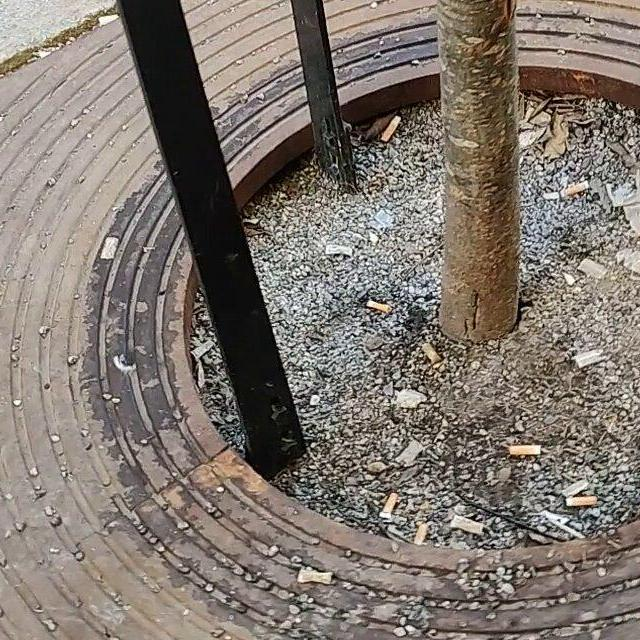Cigarette Butt: (559, 489, 600, 509), (378, 117, 403, 146), (368, 294, 397, 319), (508, 442, 546, 460), (378, 495, 403, 521), (452, 514, 488, 532), (295, 569, 336, 583), (563, 181, 589, 200), (426, 340, 442, 368), (413, 520, 429, 541)
